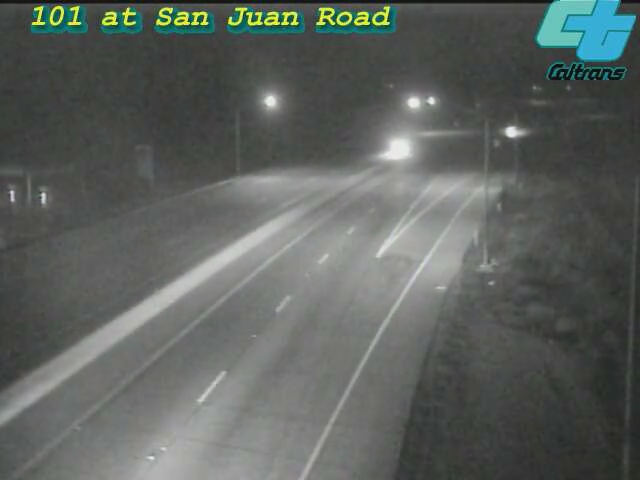vehicle: (372, 123, 422, 173), (486, 106, 536, 156)
